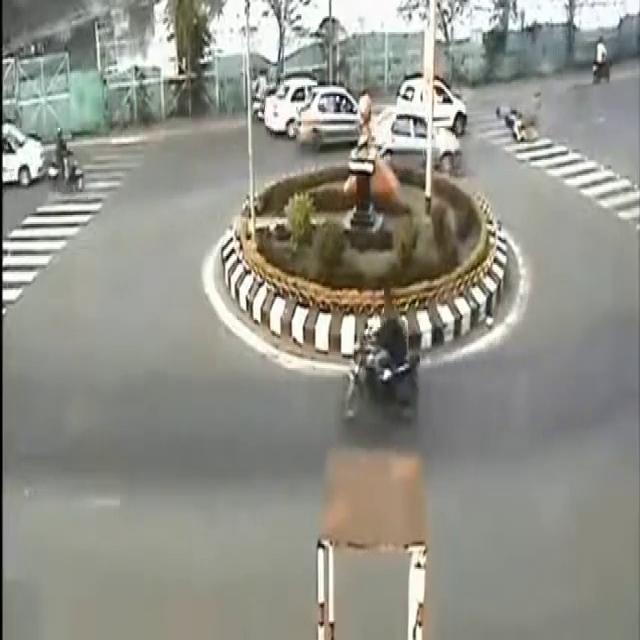accident: (497, 70, 565, 172)
